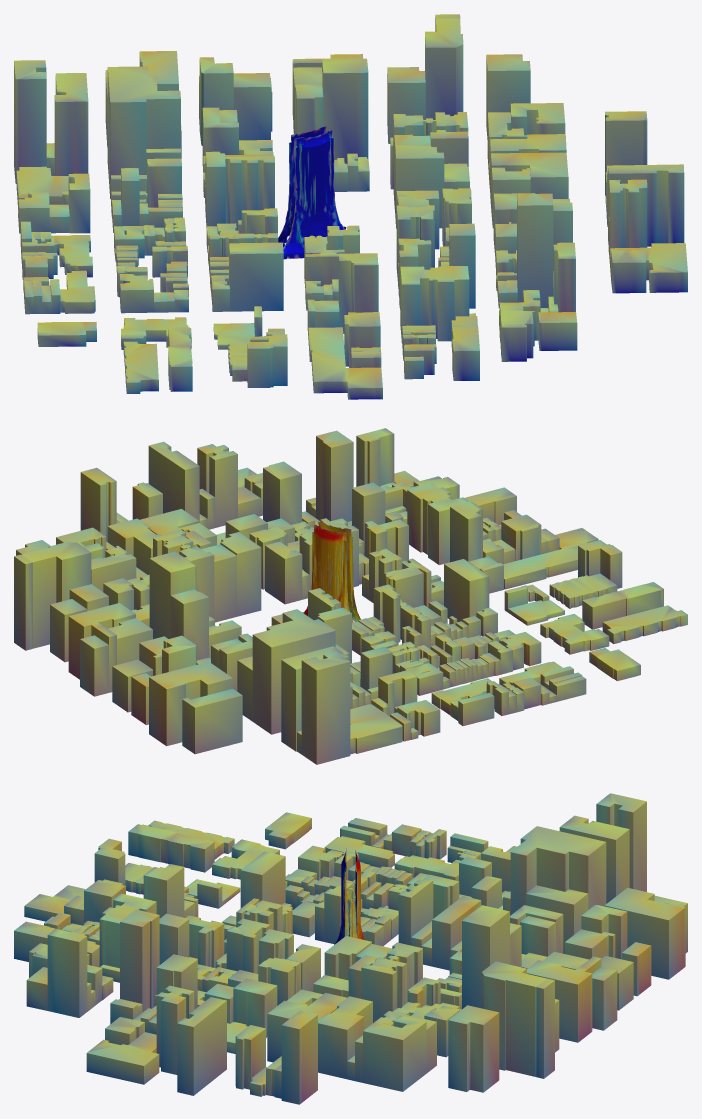
Rendered from solar_radiation_example_image.glb.
3 renders of one model, top to bottom at view 1: azimuth 30°, elevation 25°; view 2: azimuth 150°, elevation 25°; view 3: azimuth 270°, elevation 25°, orthographic. The views are drawn at different scales.
Parts seen in each view (by area): view 1: world; view 2: world; view 3: world.
Part boxes in pixels (left/top/right/bottom): world: left=14, top=14, right=687, bottom=399; world: left=14, top=428, right=687, bottom=764; world: left=14, top=793, right=687, bottom=1104.
Size of the model in its own units: 5636 by 1003 by 5698.
